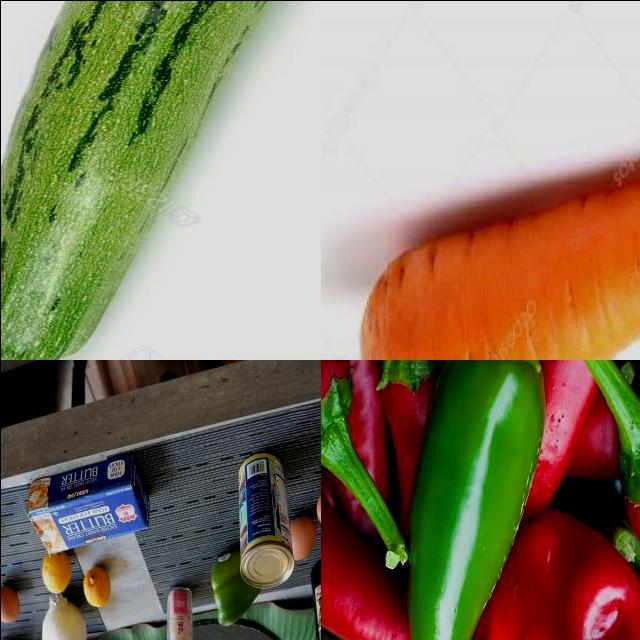bell_pepper: (209, 549, 267, 627)
carrot: (321, 150, 640, 360)
egg: (287, 515, 318, 561), (1, 584, 23, 627)
onion: (39, 592, 92, 640)
zucchini: (1, 1, 321, 360)
